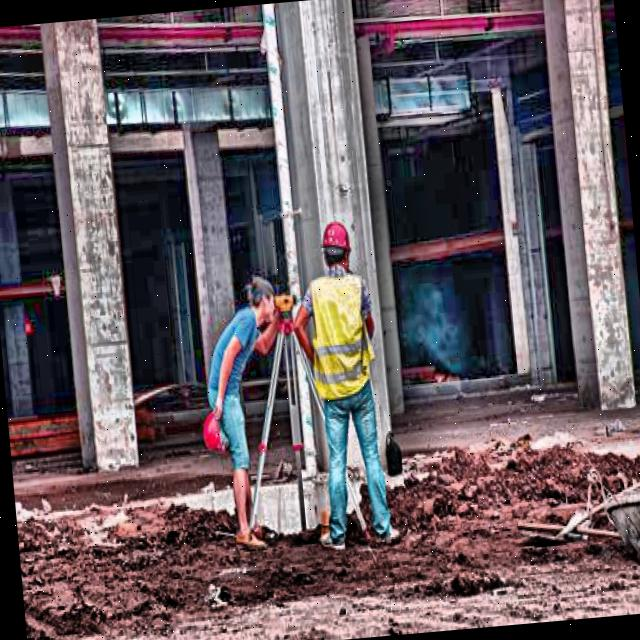helmet: (318, 217, 356, 274)
